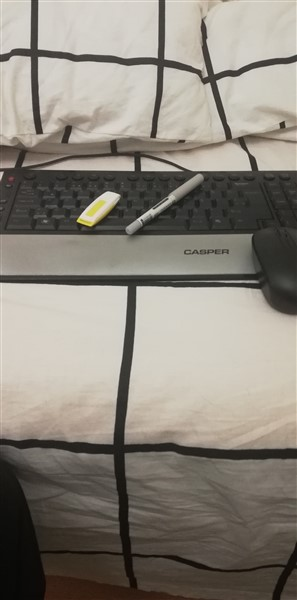flash disk: (78, 186, 122, 232)
klavye: (2, 162, 296, 281)
mouse: (251, 226, 297, 329)
pilot kalem: (123, 169, 211, 241)
